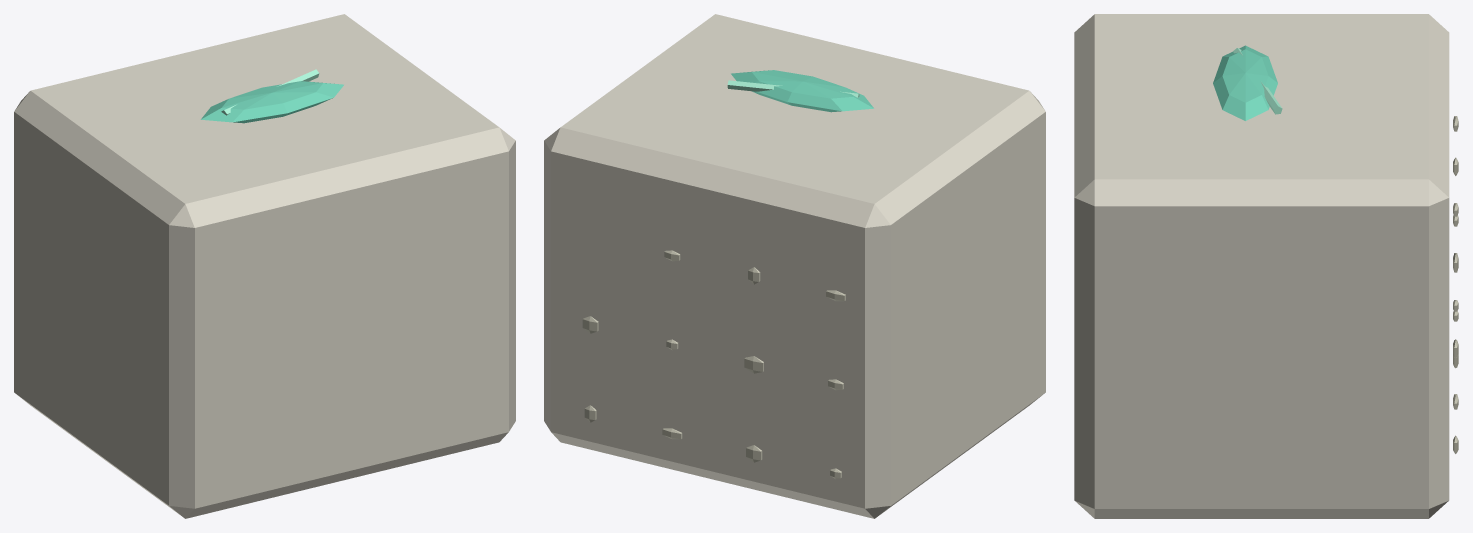
Rendered from tofu.glb.
The picture shows the model from 3 angles, left to right: view 1: azimuth 30°, elevation 25°; view 2: azimuth 150°, elevation 25°; view 3: azimuth 270°, elevation 25°; orthographic projection. The views are drawn at different scales.
Visible parts, largest first — view 1: tofu; view 2: tofu; view 3: tofu.
Part boxes in pixels (x1,y1,x2,y2): tofu: [14, 14, 515, 518]; tofu: [544, 14, 1045, 518]; tofu: [1074, 14, 1458, 518].
Bounding box in the file's own units: 0.5386 × 0.5 × 0.4791.
